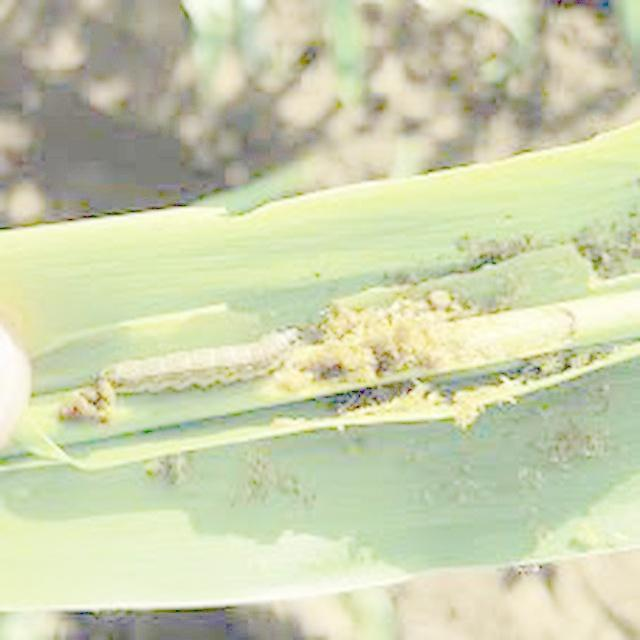Plaga: (92, 326, 298, 395)
